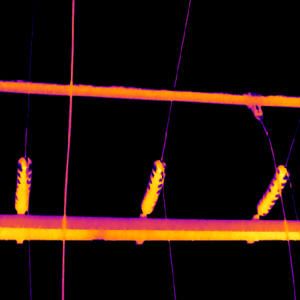insulator: (256, 163, 290, 217), (139, 158, 166, 215), (13, 154, 33, 213)
